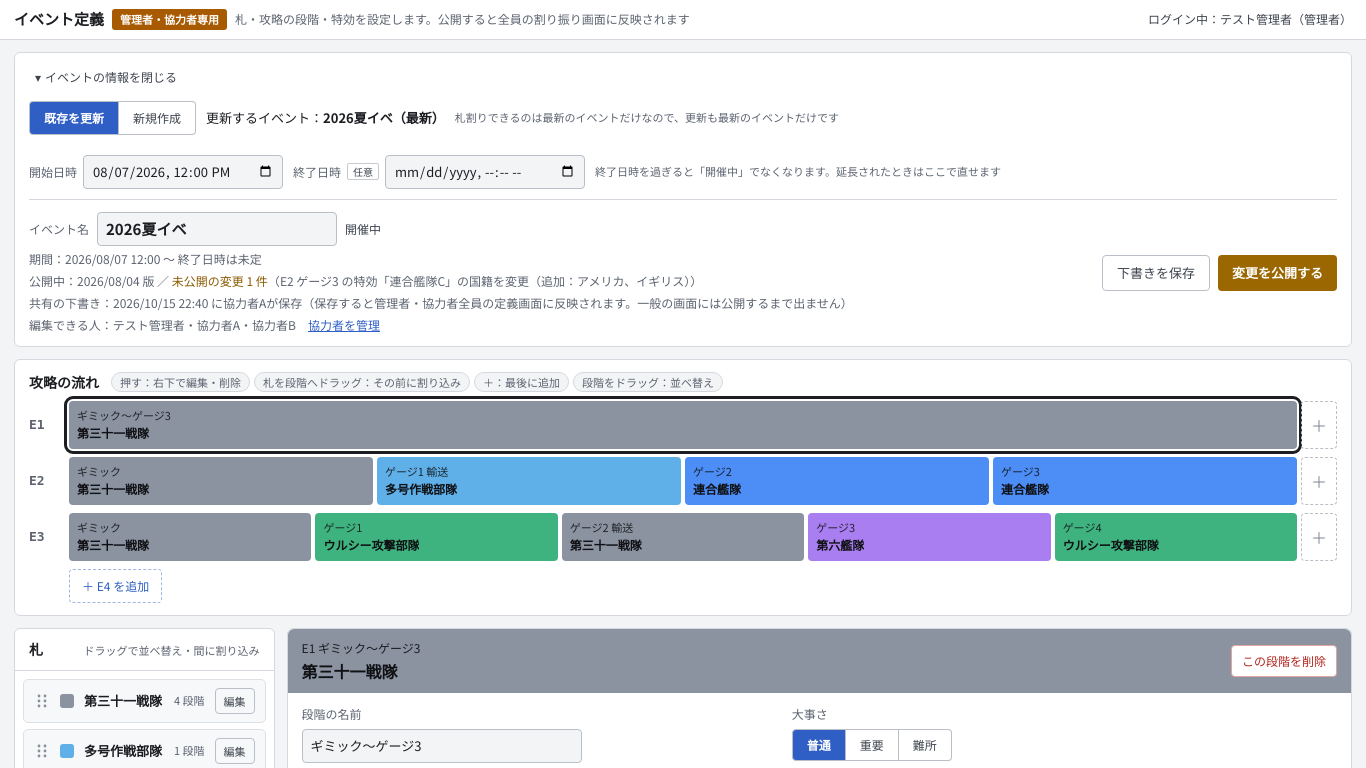
Test: イベント定義の画面（PlanEditor）：特効グループの国籍（v1.1） › 国籍を選ぶ欄（「＋ 国籍」） › 選んでいる国籍のチェックボックスはチェック済み
This screenshot has width=1366, height=768.
expect the element "攻略の流れ" is shown: met, box [14, 358, 1352, 616]
Click the button "ゲージ3 連合艦隊".
click(1020, 470)  # box [993, 456, 1297, 504]
(page scrolled)
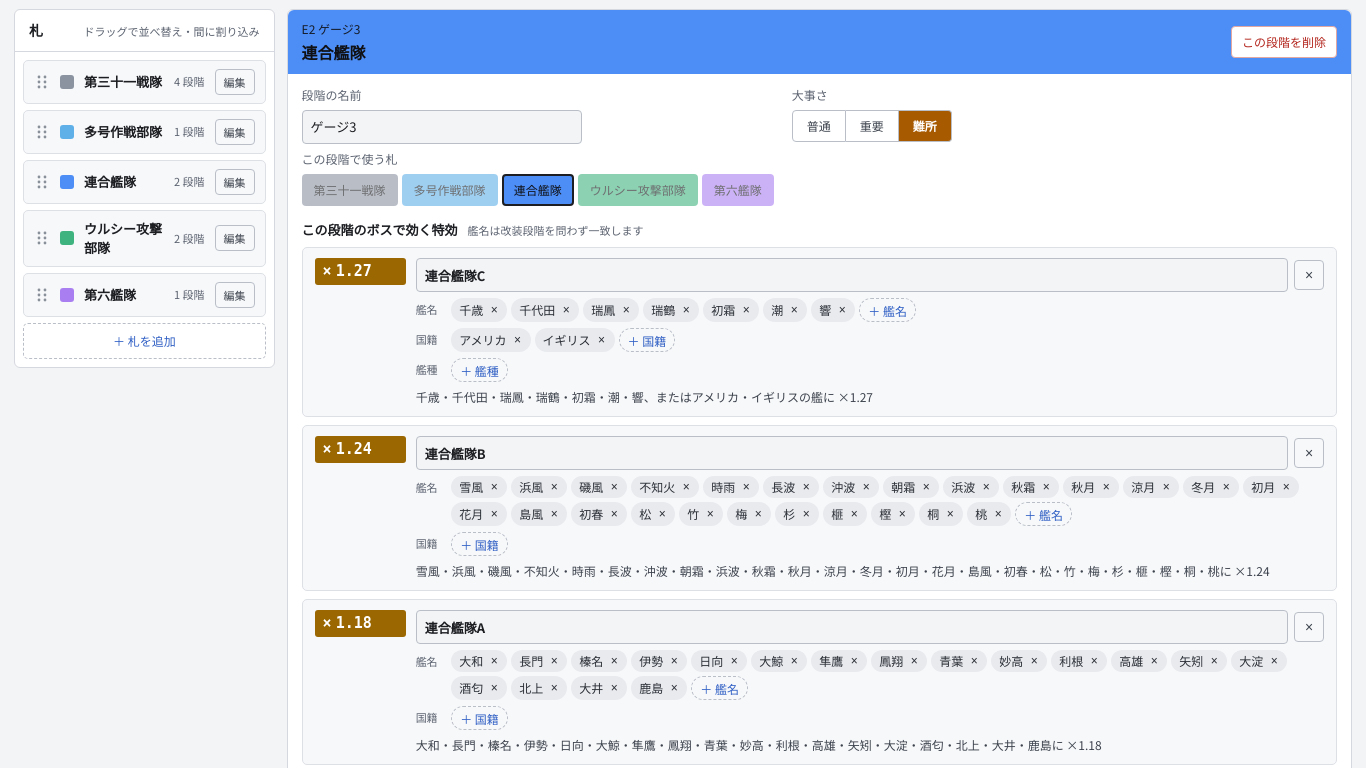
Click the 1st button "＋ 国籍".
click(647, 340)  # box [618, 328, 675, 352]
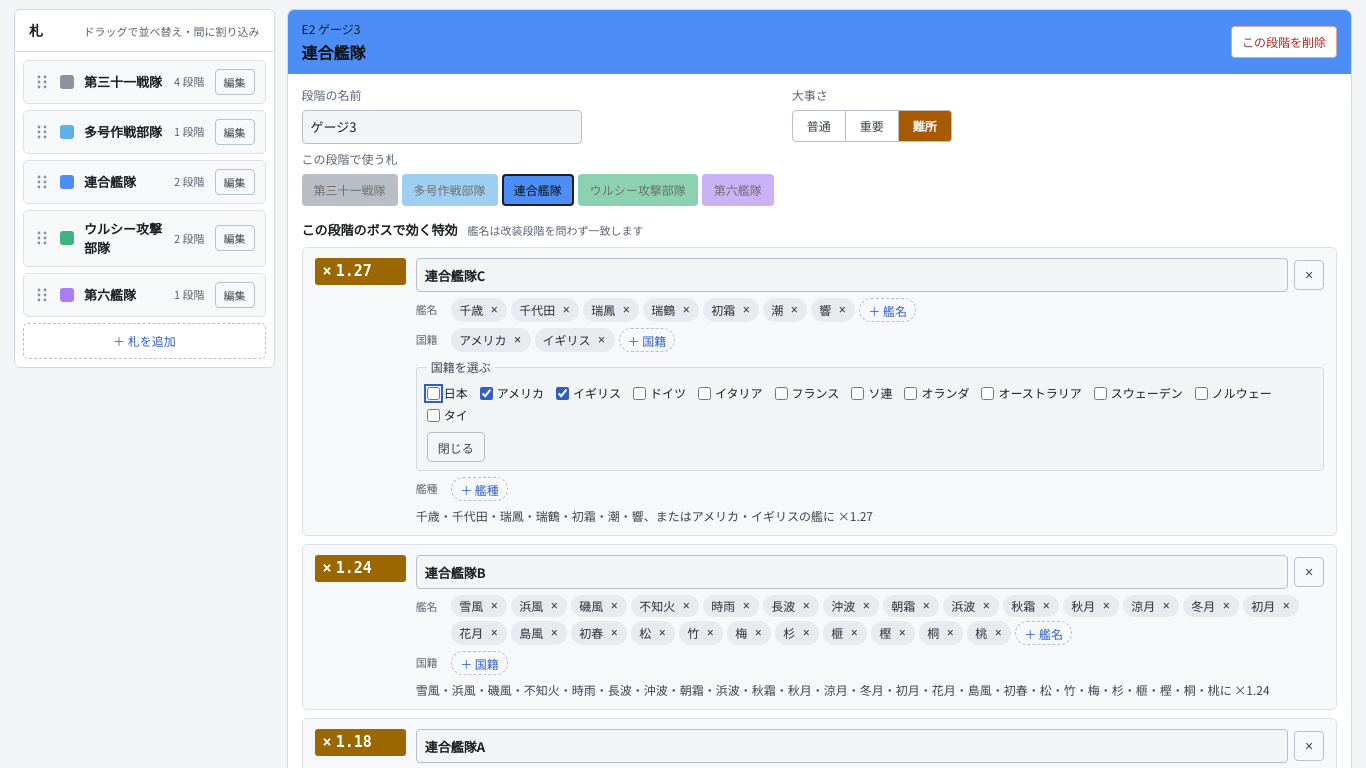
expect the checkbox labelled "アメリカ" is checked: met, box [480, 386, 493, 400]
expect the checkbox labelled "イギリス" is checked: met, box [556, 386, 569, 400]
expect the checkbox labelled "日本" is not checked: met, box [427, 386, 440, 400]
